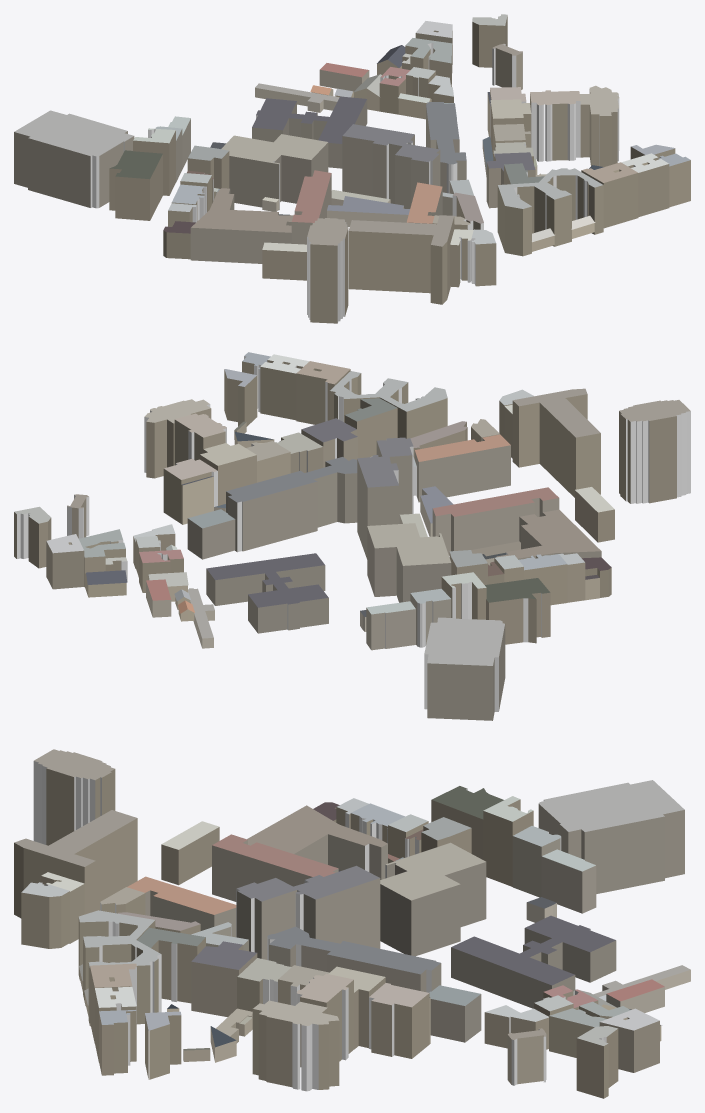
The picture shows the model from 3 angles, top to bottom: view 1: azimuth 30°, elevation 25°; view 2: azimuth 150°, elevation 25°; view 3: azimuth 270°, elevation 25°; orthographic projection. The views are drawn at different scales.
Parts seen in each view (by area): view 1: tuile; view 2: tuile; view 3: tuile.
Part boxes in pixels (box(x1,y1,x2,y2)): tuile: box(14, 14, 690, 323); tuile: box(14, 352, 690, 720); tuile: box(14, 749, 690, 1098).
Size of the model in its own units: 278 by 57.83 by 277.
